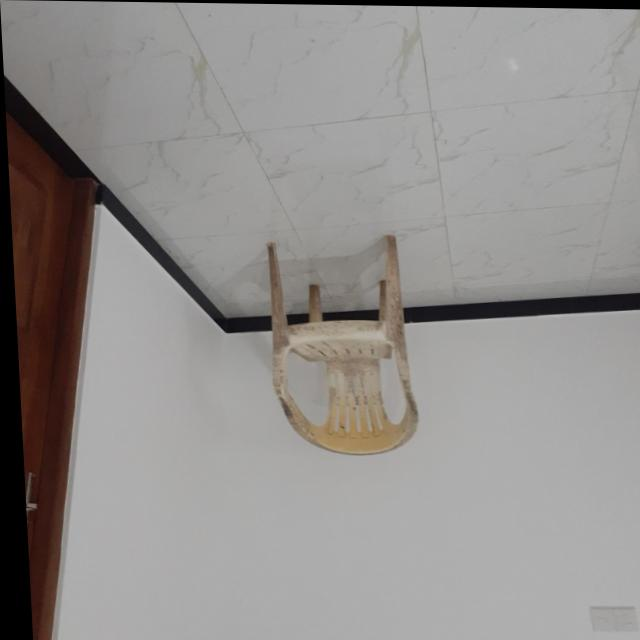Chair: (260, 230, 414, 457)
